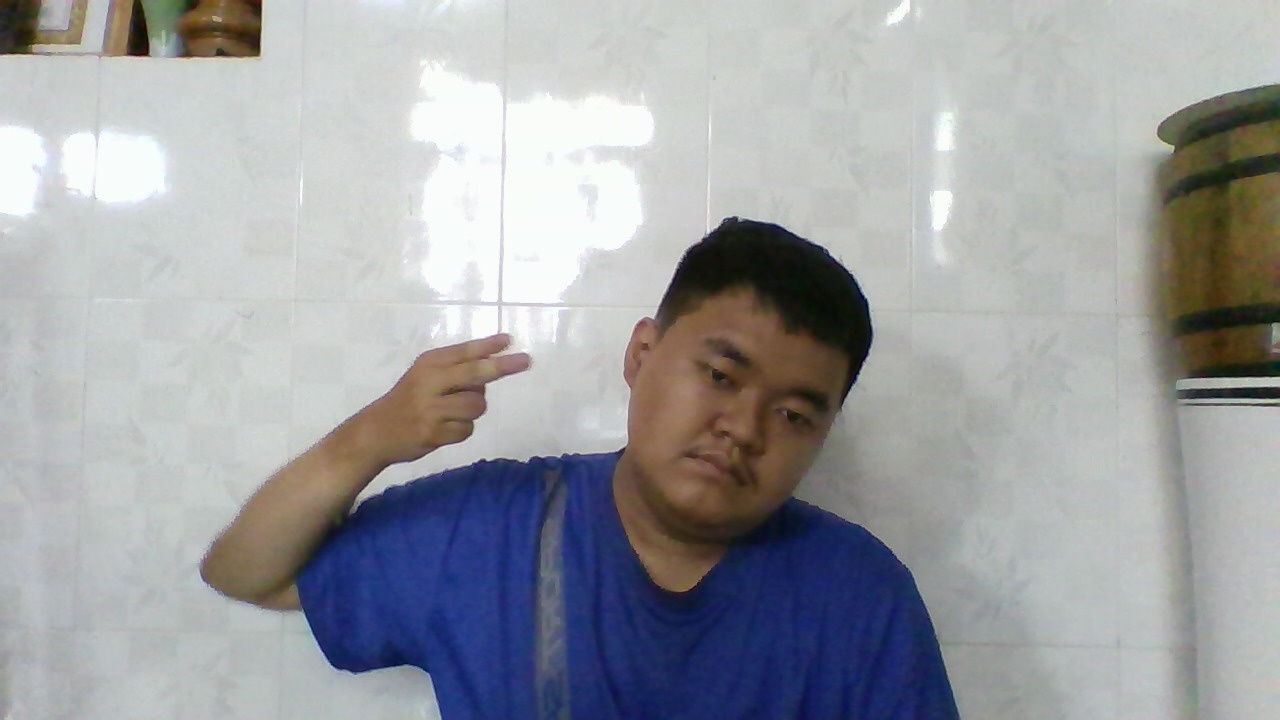U: (356, 322, 541, 452)
